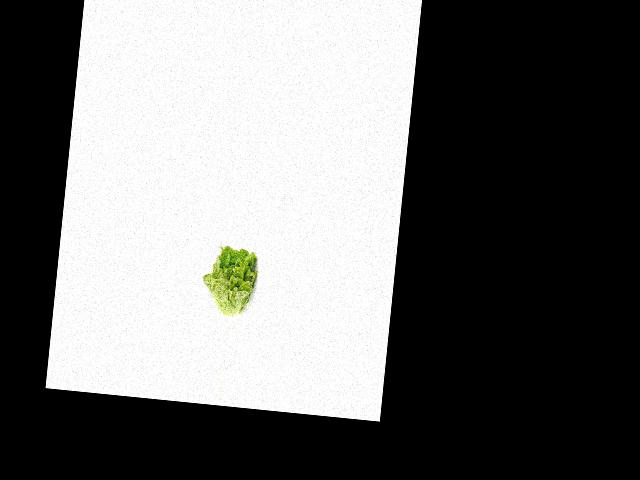lettuce: (200, 244, 263, 318)
